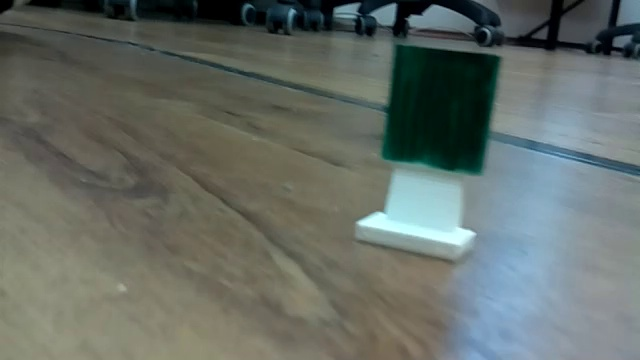rect: (312, 41, 528, 278)
